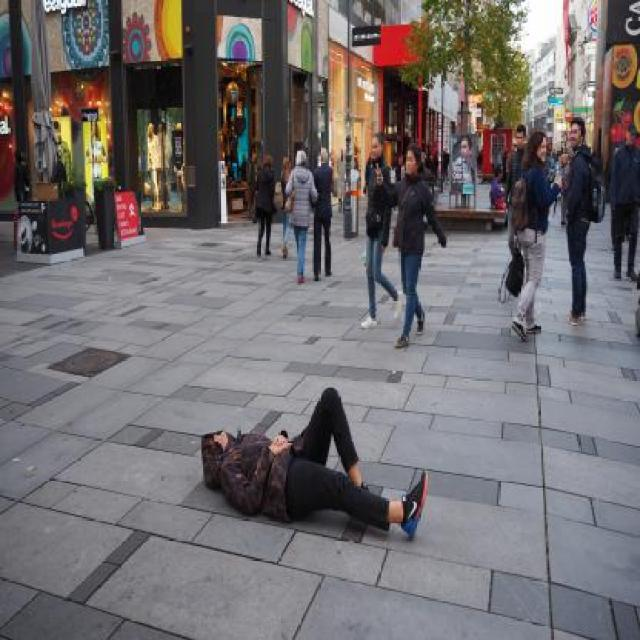fall: (191, 374, 438, 554)
